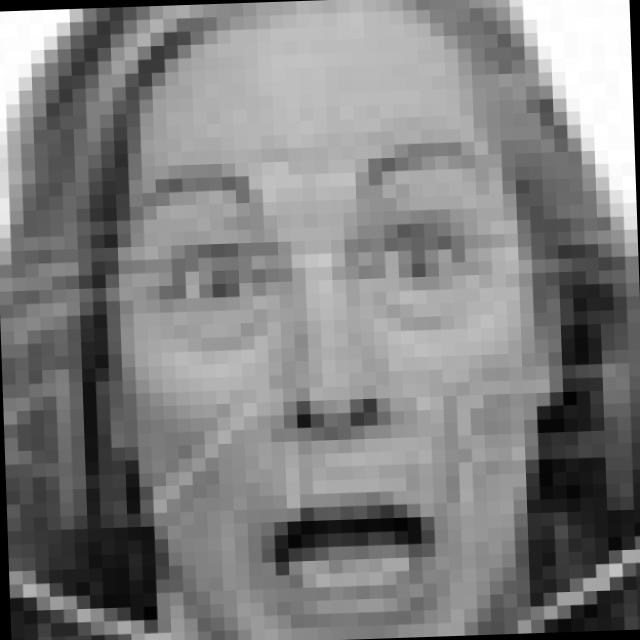fear: (117, 134, 508, 640)
